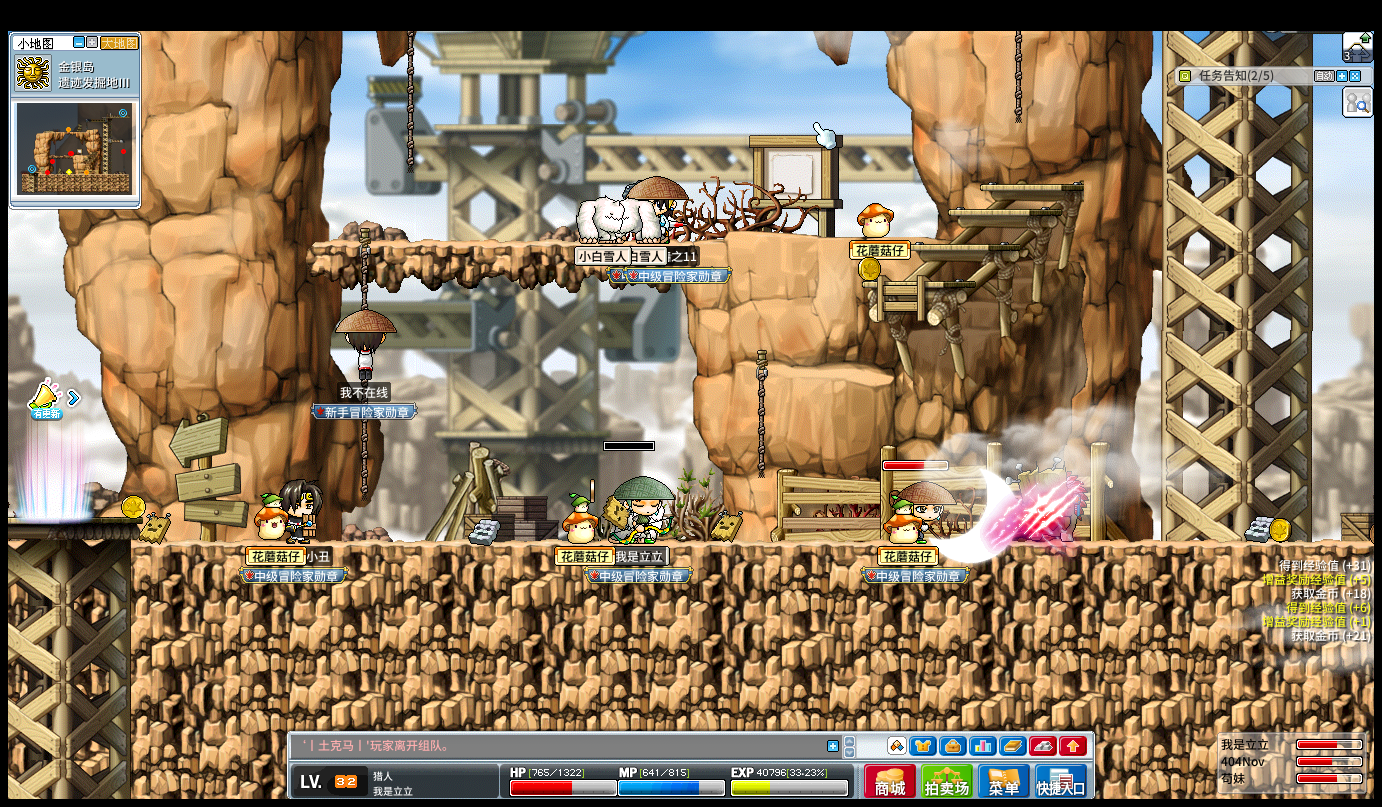floor: (311, 239, 700, 249), (785, 364, 895, 385), (9, 515, 144, 524), (858, 279, 975, 288), (945, 207, 1058, 215), (979, 184, 1085, 192), (908, 243, 1017, 250)
monster: (1010, 458, 1087, 541)
rope: (751, 350, 766, 479), (754, 351, 768, 481), (405, 28, 413, 167), (1010, 30, 1021, 122), (359, 226, 370, 310), (359, 419, 369, 506), (1013, 29, 1021, 122)
